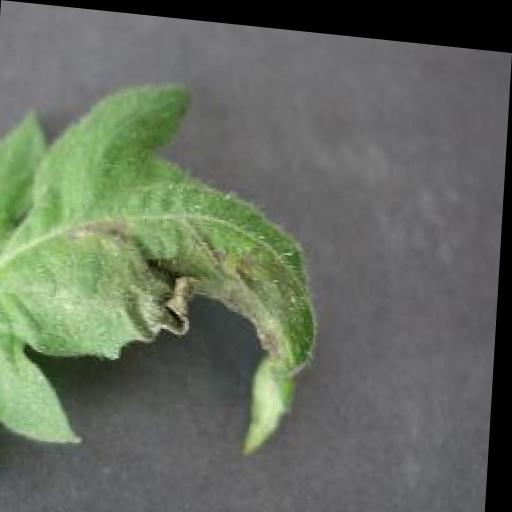Late Blight: (0, 62, 337, 466)
